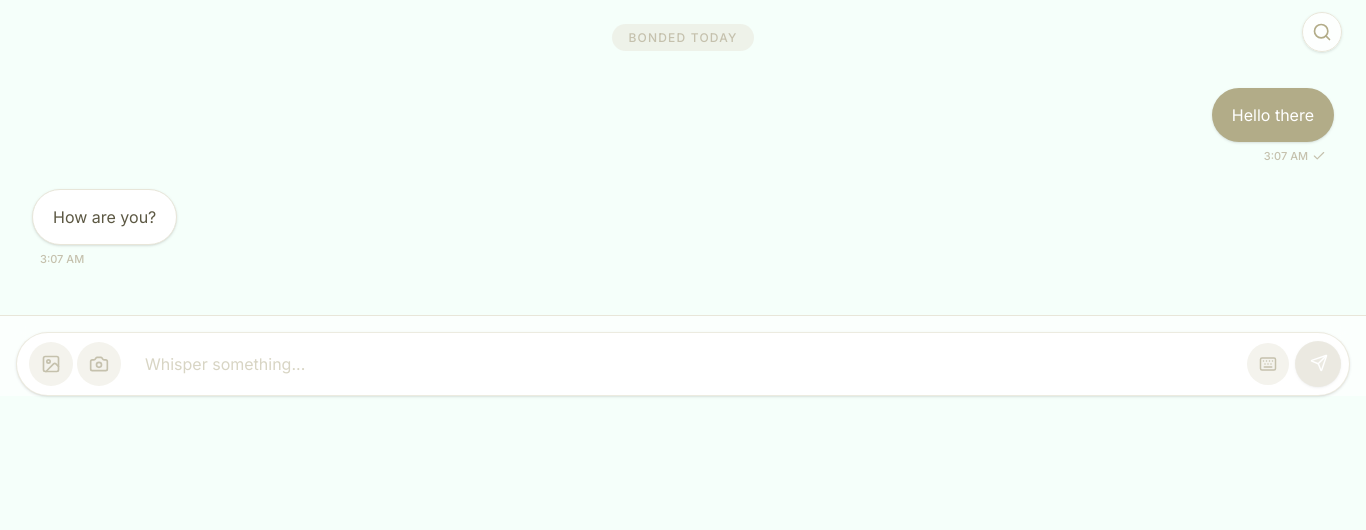
Test: ChatScreen › should filter messages when search query is entered
The image size is (1366, 530).
Note: Open search
Click the button named "Search messages".
click(1322, 32)  # box x1=1302 y1=12 x2=1342 y2=52
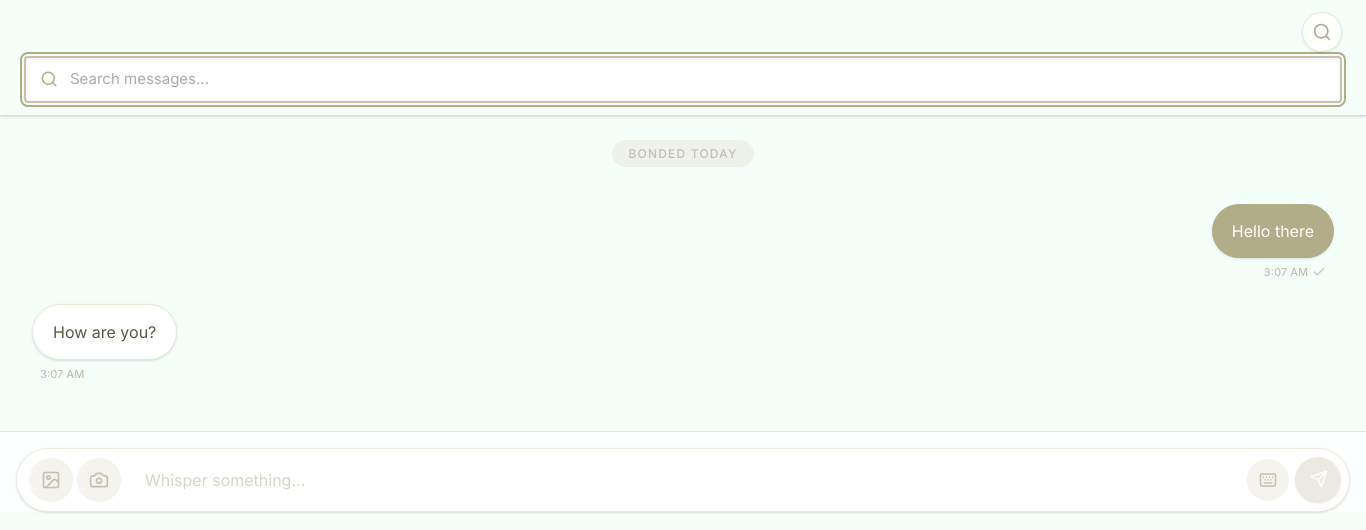
Type "Hello" into the field with placeholder "Search messages...".
click(683, 79); type("Hello")  # box x1=24 y1=56 x2=1342 y2=102
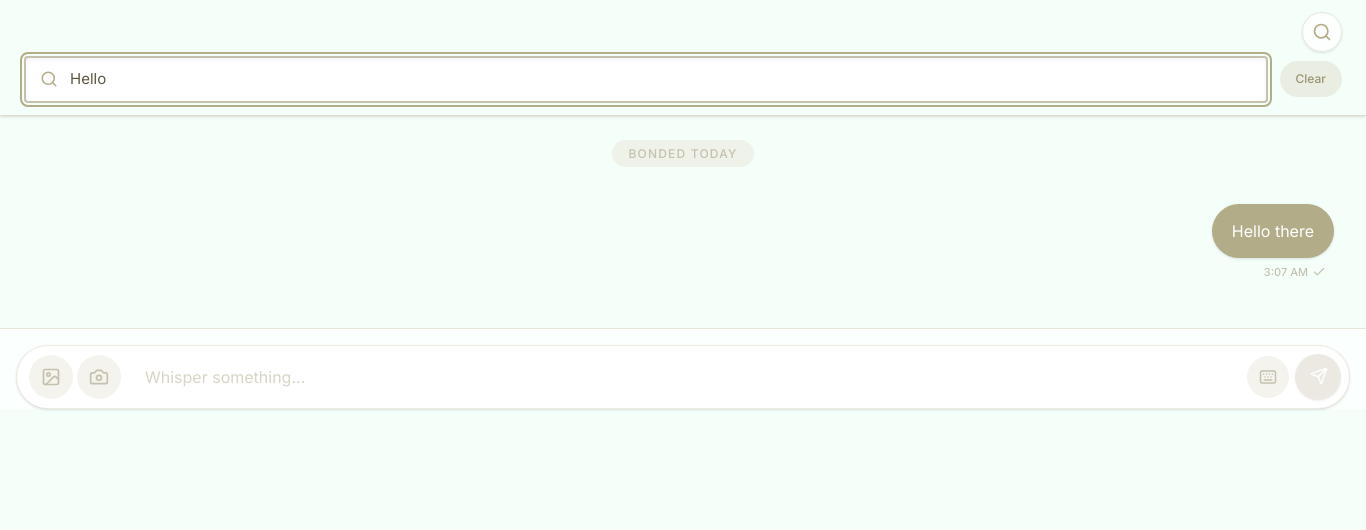
expect the text "Hello there" is shown: met, box x1=1232 y1=218 x2=1314 y2=244
expect the text "How are you?" is gone: met
